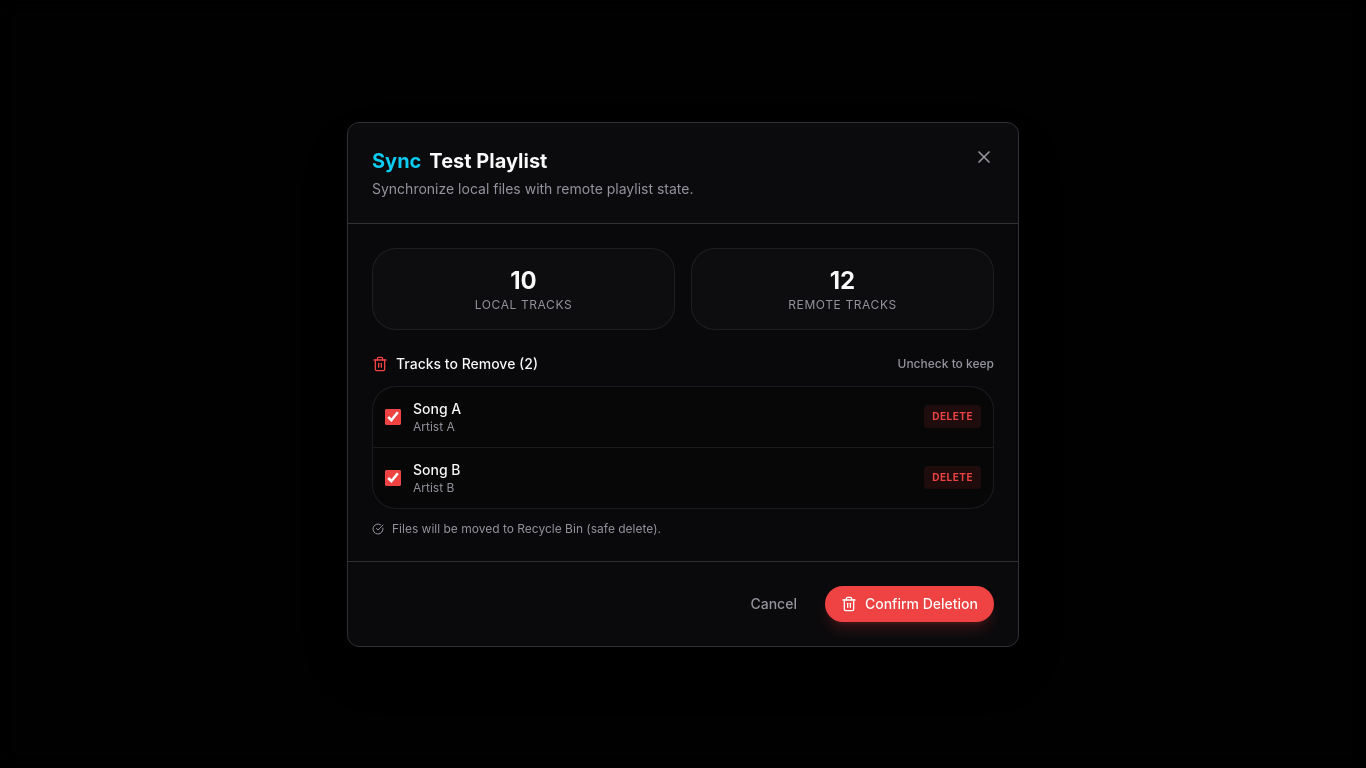
SyncModal › should handle selection of tracks to remove
This screenshot has width=1366, height=768.
Expected: the button "Confirm Deletion" is shown, x1=825 y1=586 x2=994 y2=622
# Uncheck first item
Click the checkbox labelled "Song A Artist A Delete".
click(393, 416)  # box x1=385 y1=408 x2=401 y2=424
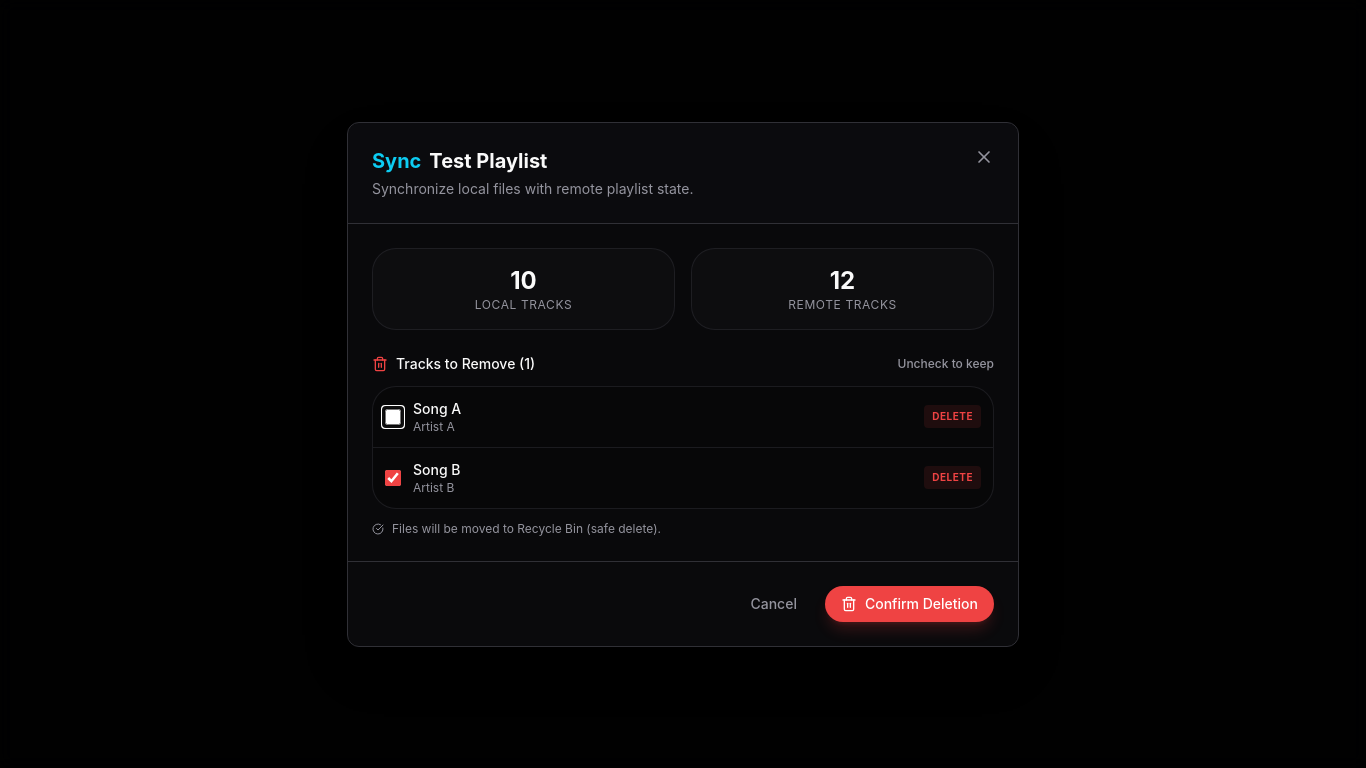
Expected: the text "Tracks to Remove (1)" is shown, x1=372 y1=354 x2=535 y2=374
# Check it back
Click the checkbox labelled "Song A Artist A Delete".
click(393, 416)  # box x1=385 y1=408 x2=401 y2=424
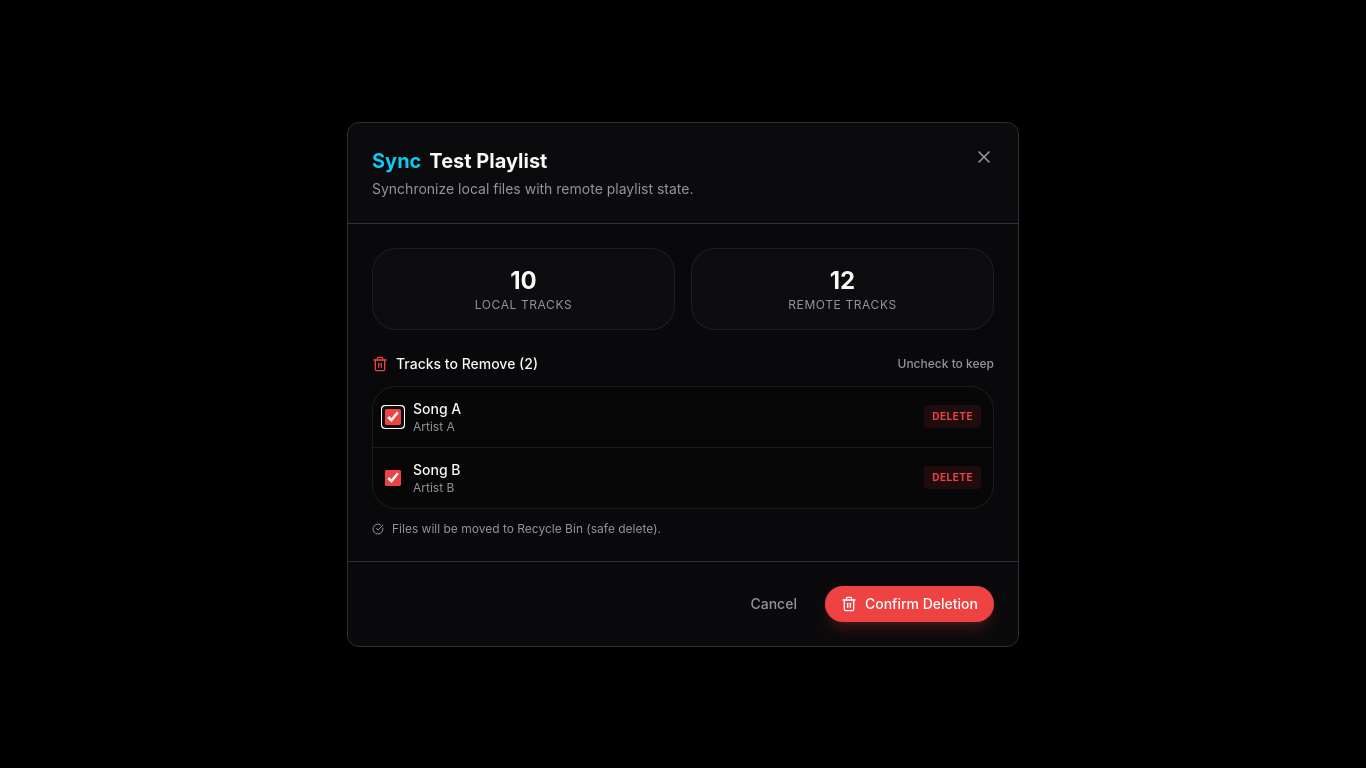
Expected: the text "Tracks to Remove (2)" is shown, x1=372 y1=354 x2=538 y2=374
